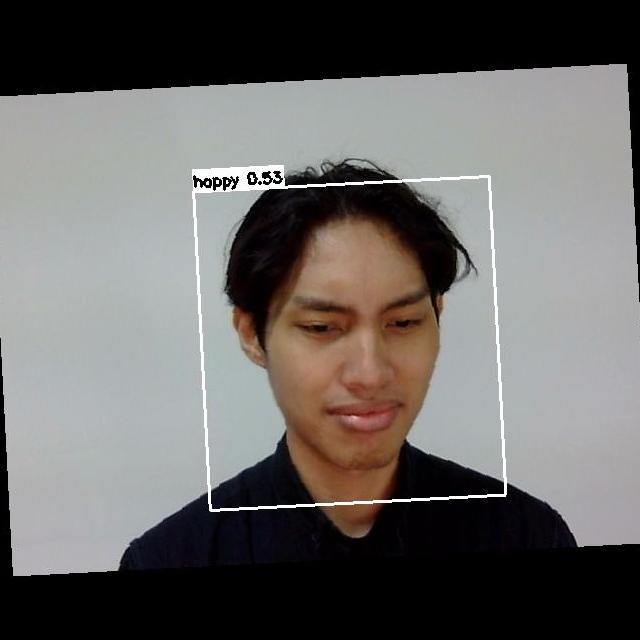Disgust: (263, 253, 446, 454)
